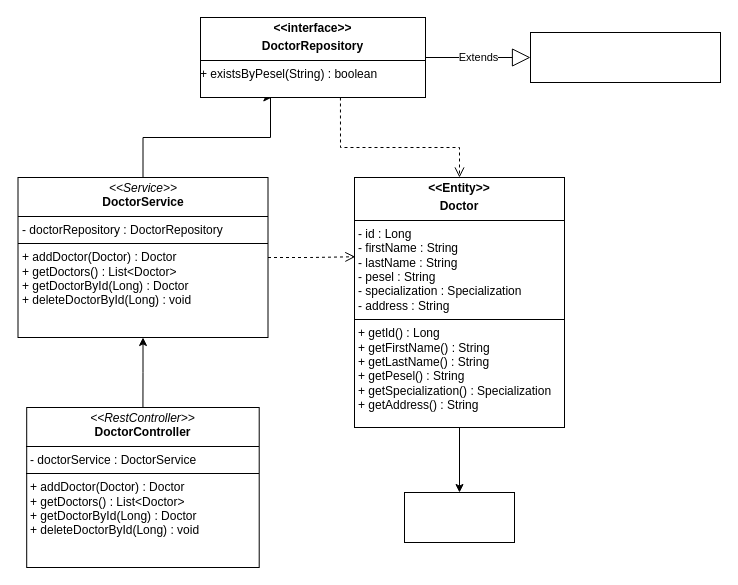
Image size: 738x585. Some labels were removed from this diagram. Each missing label, with the box of its shape:
<<enumeration>> Specialization: (404, 492, 514, 542)
JpaRepository<Doctor,Long>: (530, 32, 720, 82)
